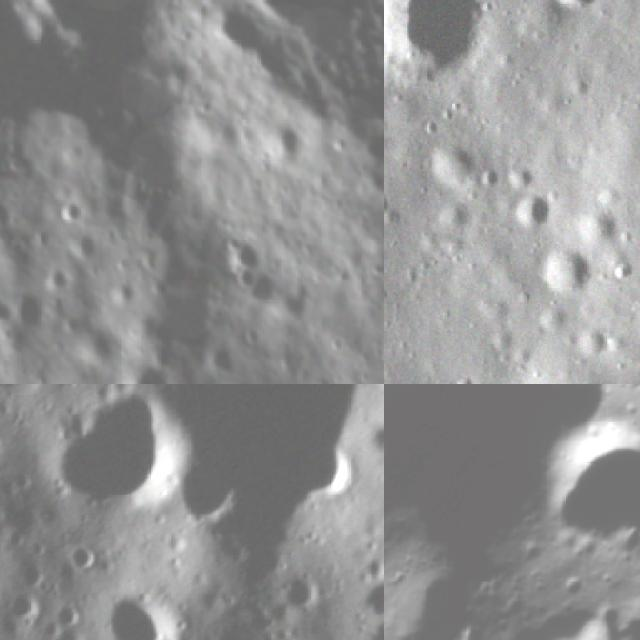crater: (518, 387, 640, 601), (28, 384, 193, 538), (384, 0, 502, 104), (0, 0, 58, 144), (92, 576, 187, 640), (530, 239, 604, 303), (418, 132, 487, 195), (502, 186, 555, 238), (262, 109, 312, 162), (274, 567, 321, 616), (8, 278, 48, 332), (224, 226, 273, 270), (353, 401, 384, 468), (353, 563, 384, 623), (57, 225, 103, 263), (60, 537, 102, 578), (47, 192, 90, 228), (473, 157, 508, 196), (5, 589, 42, 625), (115, 361, 172, 384), (549, 0, 607, 21), (16, 557, 50, 589), (51, 597, 80, 632), (0, 281, 14, 326), (0, 193, 15, 231), (384, 187, 396, 228)
